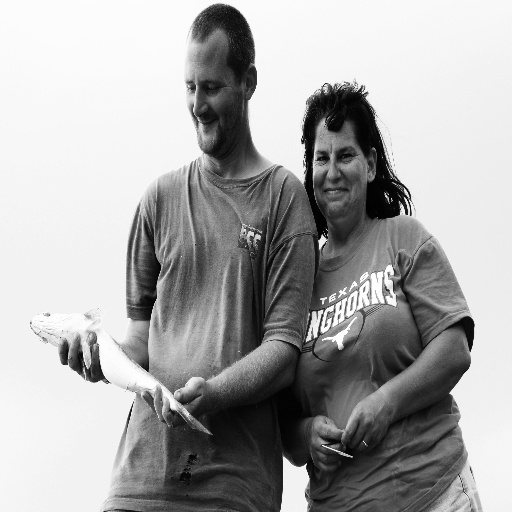hand: (141, 375, 206, 427), (339, 392, 390, 453), (58, 329, 104, 381), (305, 416, 345, 470)
